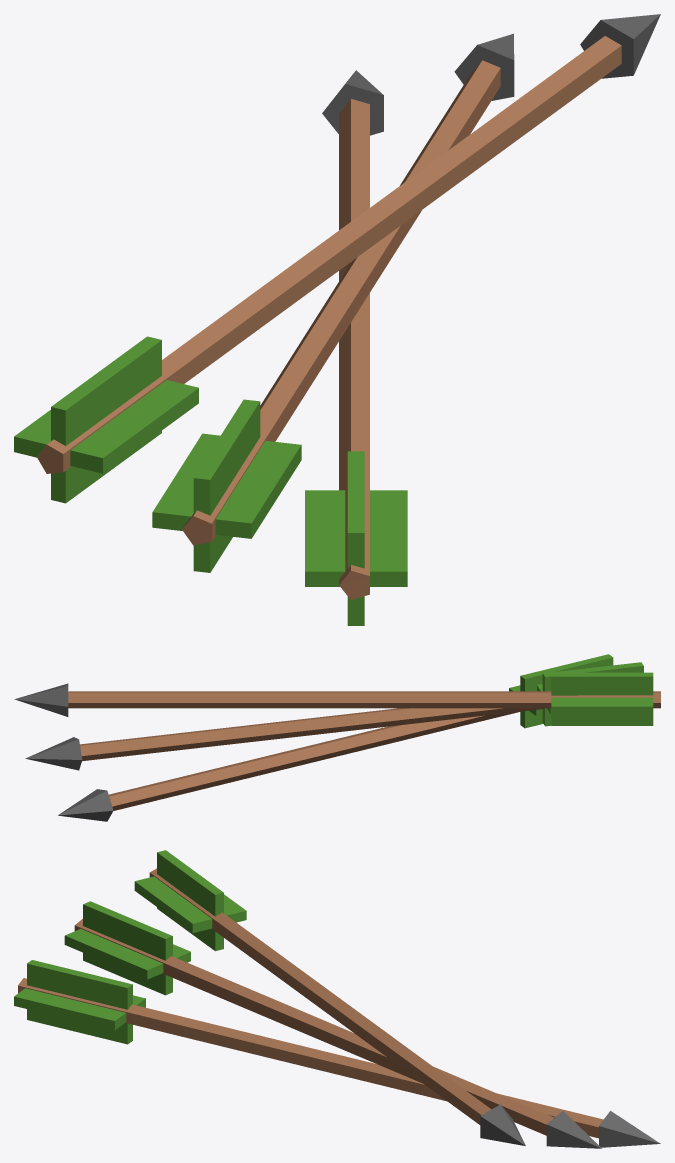
File: ce_ammo2_arrowjar_venom_b.obj
3 renders of one model, top to bottom at view 1: azimuth 30°, elevation 25°; view 2: azimuth 150°, elevation 25°; view 3: azimuth 270°, elevation 25°, orthographic. The views are drawn at different scales.
Visible parts, largest first — view 1: ce_ammo2_arrowjar_venom_b_8, ce_ammo2_arrowjar_venom_b_4, ce_ammo2_arrowjar_venom_b_0, ce_ammo2_arrowjar_venom_b_2, ce_ammo2_arrowjar_venom_b_6, ce_ammo2_arrowjar_venom_b_11, ce_ammo2_arrowjar_venom_b_10, ce_ammo2_arrowjar_venom_b_7, ce_ammo2_arrowjar_venom_b_3, ce_ammo2_arrowjar_venom_b_9, ce_ammo2_arrowjar_venom_b_5, ce_ammo2_arrowjar_venom_b_1; view 2: ce_ammo2_arrowjar_venom_b_8, ce_ammo2_arrowjar_venom_b_4, ce_ammo2_arrowjar_venom_b_0, ce_ammo2_arrowjar_venom_b_11, ce_ammo2_arrowjar_venom_b_10, ce_ammo2_arrowjar_venom_b_3, ce_ammo2_arrowjar_venom_b_1, ce_ammo2_arrowjar_venom_b_5, ce_ammo2_arrowjar_venom_b_9, ce_ammo2_arrowjar_venom_b_7; view 3: ce_ammo2_arrowjar_venom_b_0, ce_ammo2_arrowjar_venom_b_8, ce_ammo2_arrowjar_venom_b_4, ce_ammo2_arrowjar_venom_b_3, ce_ammo2_arrowjar_venom_b_7, ce_ammo2_arrowjar_venom_b_11, ce_ammo2_arrowjar_venom_b_2, ce_ammo2_arrowjar_venom_b_6, ce_ammo2_arrowjar_venom_b_10, ce_ammo2_arrowjar_venom_b_1, ce_ammo2_arrowjar_venom_b_5, ce_ammo2_arrowjar_venom_b_9.
Boxes of the visible parts, x1,y1,x2,y2 form: ce_ammo2_arrowjar_venom_b_8: [37, 36, 621, 473]; ce_ammo2_arrowjar_venom_b_4: [182, 60, 500, 545]; ce_ammo2_arrowjar_venom_b_0: [339, 99, 369, 599]; ce_ammo2_arrowjar_venom_b_2: [305, 490, 407, 586]; ce_ammo2_arrowjar_venom_b_6: [152, 433, 301, 538]; ce_ammo2_arrowjar_venom_b_11: [51, 336, 161, 503]; ce_ammo2_arrowjar_venom_b_10: [14, 380, 198, 473]; ce_ammo2_arrowjar_venom_b_7: [193, 399, 260, 572]; ce_ammo2_arrowjar_venom_b_3: [347, 451, 364, 625]; ce_ammo2_arrowjar_venom_b_9: [580, 14, 660, 78]; ce_ammo2_arrowjar_venom_b_5: [454, 33, 514, 100]; ce_ammo2_arrowjar_venom_b_1: [322, 70, 383, 135]; ce_ammo2_arrowjar_venom_b_8: [68, 691, 660, 708]; ce_ammo2_arrowjar_venom_b_4: [80, 708, 544, 761]; ce_ammo2_arrowjar_venom_b_0: [109, 711, 519, 810]; ce_ammo2_arrowjar_venom_b_11: [551, 672, 653, 725]; ce_ammo2_arrowjar_venom_b_10: [551, 697, 653, 714]; ce_ammo2_arrowjar_venom_b_3: [520, 654, 613, 728]; ce_ammo2_arrowjar_venom_b_1: [58, 789, 113, 821]; ce_ammo2_arrowjar_venom_b_5: [25, 737, 82, 770]; ce_ammo2_arrowjar_venom_b_9: [14, 683, 68, 716]; ce_ammo2_arrowjar_venom_b_7: [542, 662, 643, 726]; ce_ammo2_arrowjar_venom_b_0: [18, 978, 603, 1138]; ce_ammo2_arrowjar_venom_b_8: [149, 868, 491, 1124]; ce_ammo2_arrowjar_venom_b_4: [74, 919, 553, 1135]; ce_ammo2_arrowjar_venom_b_3: [27, 960, 132, 1044]; ce_ammo2_arrowjar_venom_b_7: [83, 901, 172, 995]; ce_ammo2_arrowjar_venom_b_11: [157, 850, 223, 951]; ce_ammo2_arrowjar_venom_b_2: [14, 988, 145, 1030]; ce_ammo2_arrowjar_venom_b_6: [64, 929, 190, 979]; ce_ammo2_arrowjar_venom_b_10: [134, 876, 246, 932]; ce_ammo2_arrowjar_venom_b_1: [599, 1111, 660, 1147]; ce_ammo2_arrowjar_venom_b_5: [546, 1111, 601, 1148]; ce_ammo2_arrowjar_venom_b_9: [480, 1104, 525, 1145].
Bounding box in the file's own units: 0.7498 × 0.142 × 0.7498.
